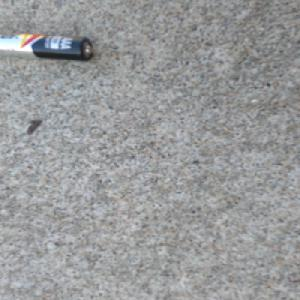Battery: (0, 31, 95, 62)
